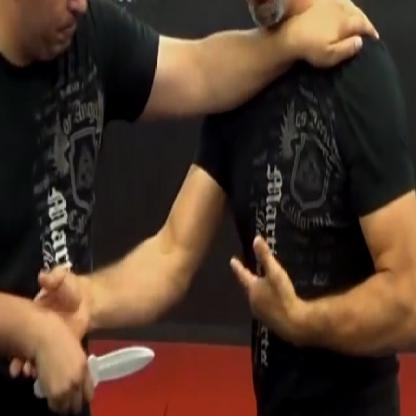knife: (31, 336, 157, 414)
